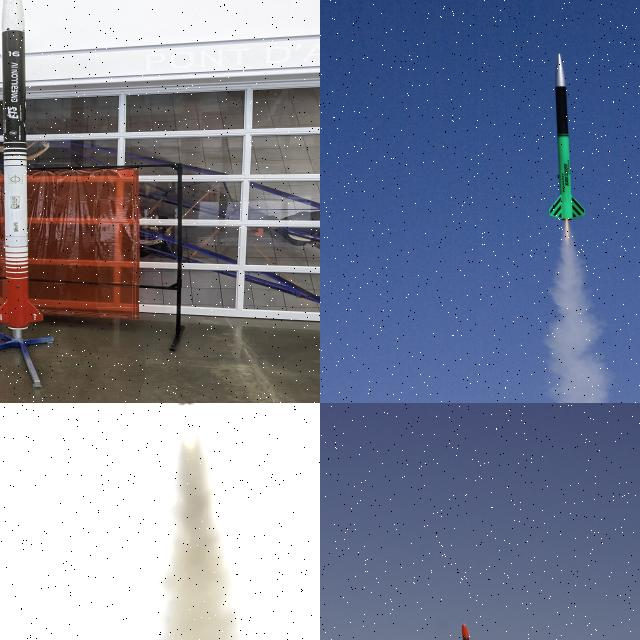Rocket: (0, 0, 44, 330), (546, 52, 588, 223), (458, 622, 482, 640)
